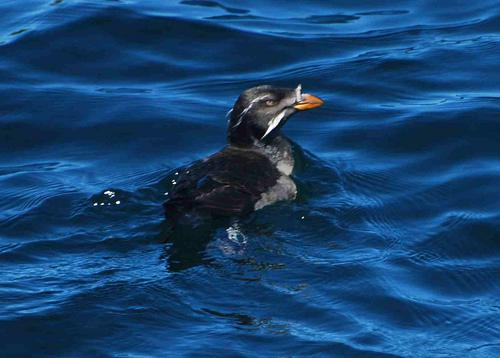008.Rhinoceros_Auklet: (162, 83, 327, 216)
